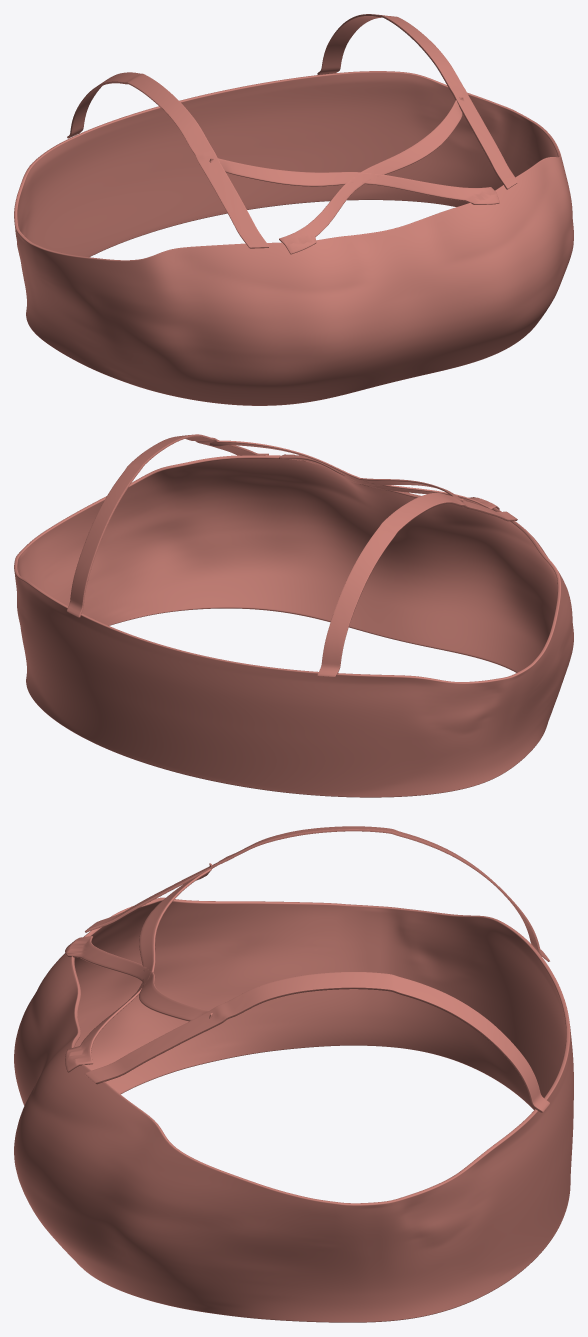
Rendered from Feminine-strappy-top.glb.
The picture shows the model from 3 angles, top to bottom: view 1: azimuth 30°, elevation 25°; view 2: azimuth 150°, elevation 25°; view 3: azimuth 270°, elevation 25°; orthographic projection. The views are drawn at different scales.
Visible parts, largest first — view 1: Clothing / strappy body, Clothing / Crop sewn strap201 -1, Clothing / Crop sewn strap201 1, Crop / sewn crossed strap201 -1, Crop / sewn crossed strap201 1; view 2: Clothing / strappy body, Clothing / Crop sewn strap201 -1, Clothing / Crop sewn strap201 1, Crop / sewn crossed strap201 1, Crop / sewn crossed strap201 -1; view 3: Clothing / strappy body, Clothing / Crop sewn strap201 1, Crop / sewn crossed strap201 1, Clothing / Crop sewn strap201 -1, Crop / sewn crossed strap201 -1.
Part boxes in pixels (box(x1,y1,x2,y2)): Clothing / strappy body: box(14, 71, 573, 405); Clothing / Crop sewn strap201 -1: box(67, 72, 268, 248); Clothing / Crop sewn strap201 1: box(317, 14, 517, 189); Crop / sewn crossed strap201 -1: box(209, 158, 499, 204); Crop / sewn crossed strap201 1: box(279, 97, 463, 254); Clothing / strappy body: box(14, 455, 573, 797); Clothing / Crop sewn strap201 -1: box(317, 492, 517, 676); Clothing / Crop sewn strap201 1: box(67, 434, 268, 617); Crop / sewn crossed strap201 1: box(209, 440, 499, 509); Crop / sewn crossed strap201 -1: box(279, 454, 464, 507); Clothing / strappy body: box(14, 897, 573, 1322); Clothing / Crop sewn strap201 1: box(85, 972, 549, 1112); Crop / sewn crossed strap201 1: box(65, 936, 212, 1021); Clothing / Crop sewn strap201 -1: box(85, 826, 549, 961); Crop / sewn crossed strap201 -1: box(65, 863, 212, 1072).
Bounding box in the file's own units: 0.6211 × 0.2873 × 0.4888.
